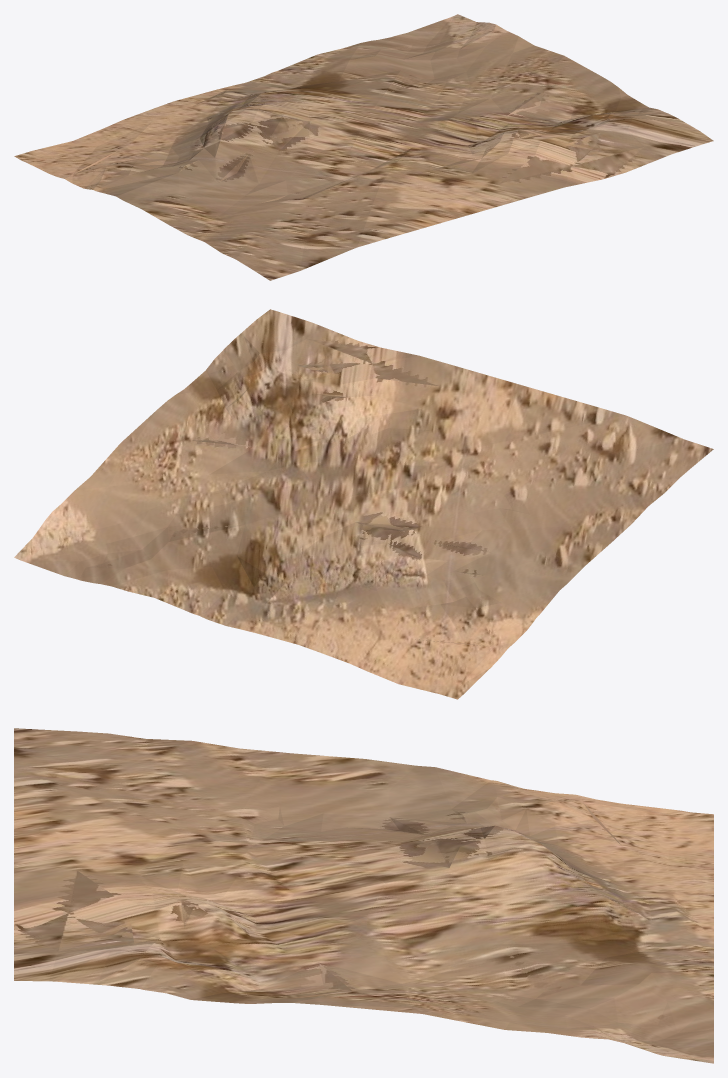
3 renders of one model, top to bottom at view 1: azimuth 30°, elevation 25°; view 2: azimuth 150°, elevation 25°; view 3: azimuth 270°, elevation 25°, orthographic. The views are drawn at different scales.
Size of the model in its own units: 1.04 by 0.2126 by 1.04.
2 materials, 2 textured.
